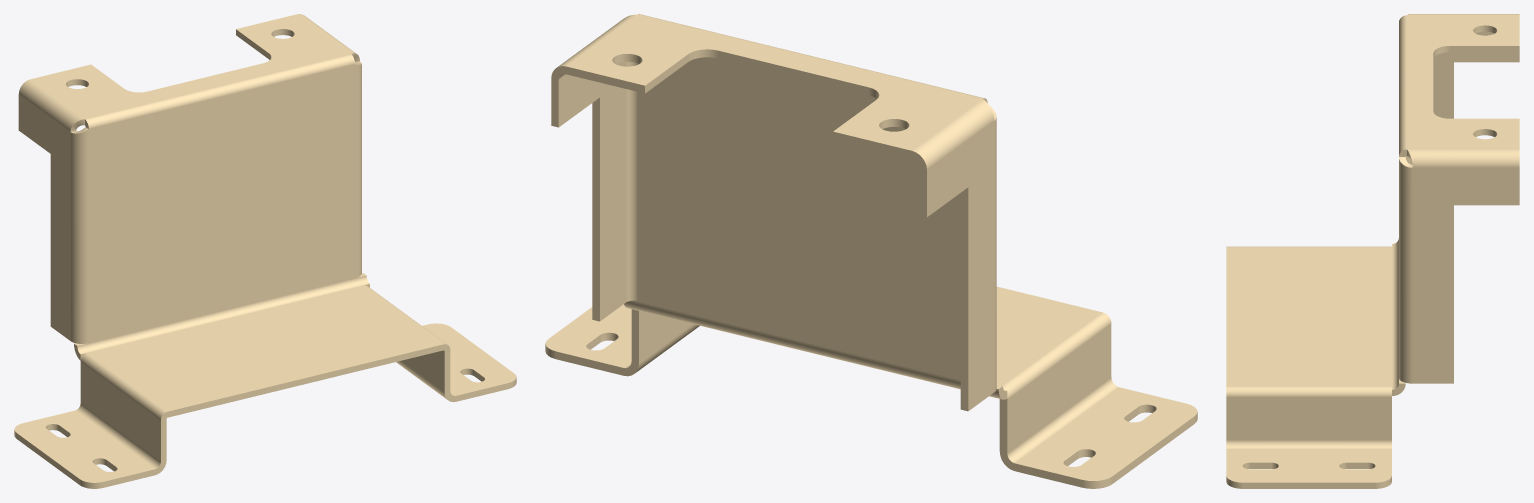
File: day_7_hw_1.glb
The picture shows the model from 3 angles, left to right: view 1: azimuth 30°, elevation 25°; view 2: azimuth 150°, elevation 25°; view 3: azimuth 270°, elevation 25°; orthographic projection. The views are drawn at different scales.
Parts seen in each view (by area): view 1: day 7 hw 1; view 2: day 7 hw 1; view 3: day 7 hw 1.
Boxes of the visible parts, <box> form: day 7 hw 1: <box>14,14,516,488</box>; day 7 hw 1: <box>545,14,1197,488</box>; day 7 hw 1: <box>1226,14,1519,488</box>.
Bounding box in the file's own units: 0.3 × 0.19 × 0.17.
